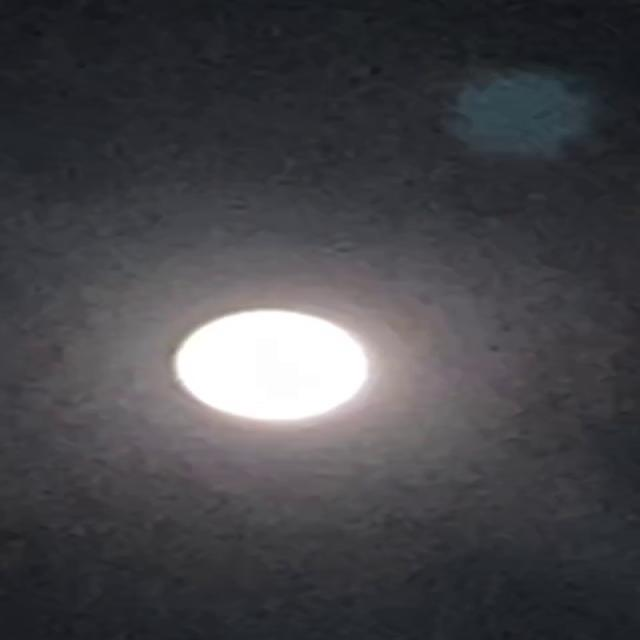moon: (157, 294, 380, 438)
